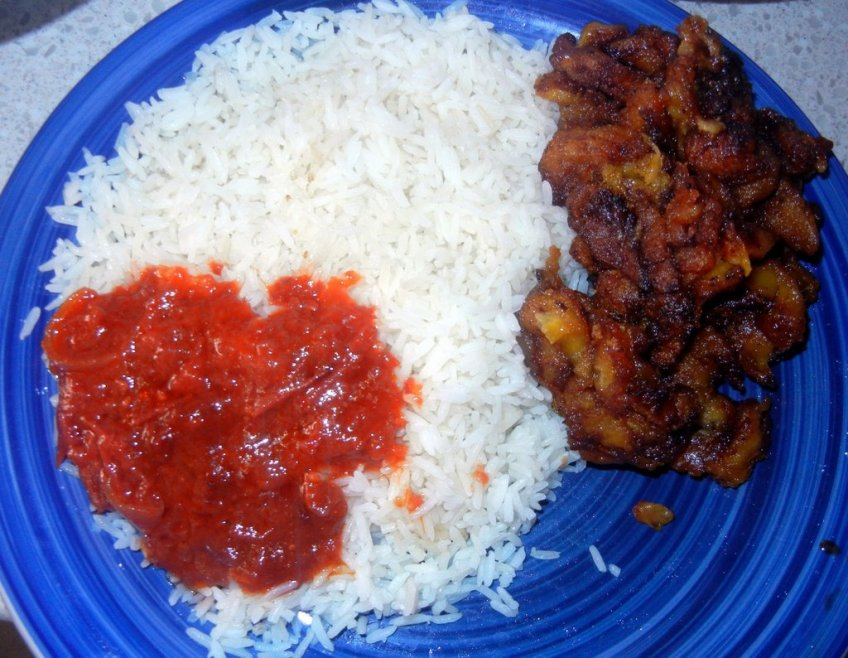plain rice: (177, 88, 528, 286), (394, 309, 511, 601)
